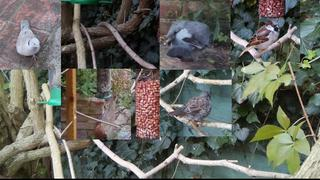collared dove: (16, 20, 41, 63)
dunnock: (164, 90, 212, 126)
sparrow: (238, 20, 280, 58)
wood pigeon: (166, 20, 210, 63)
